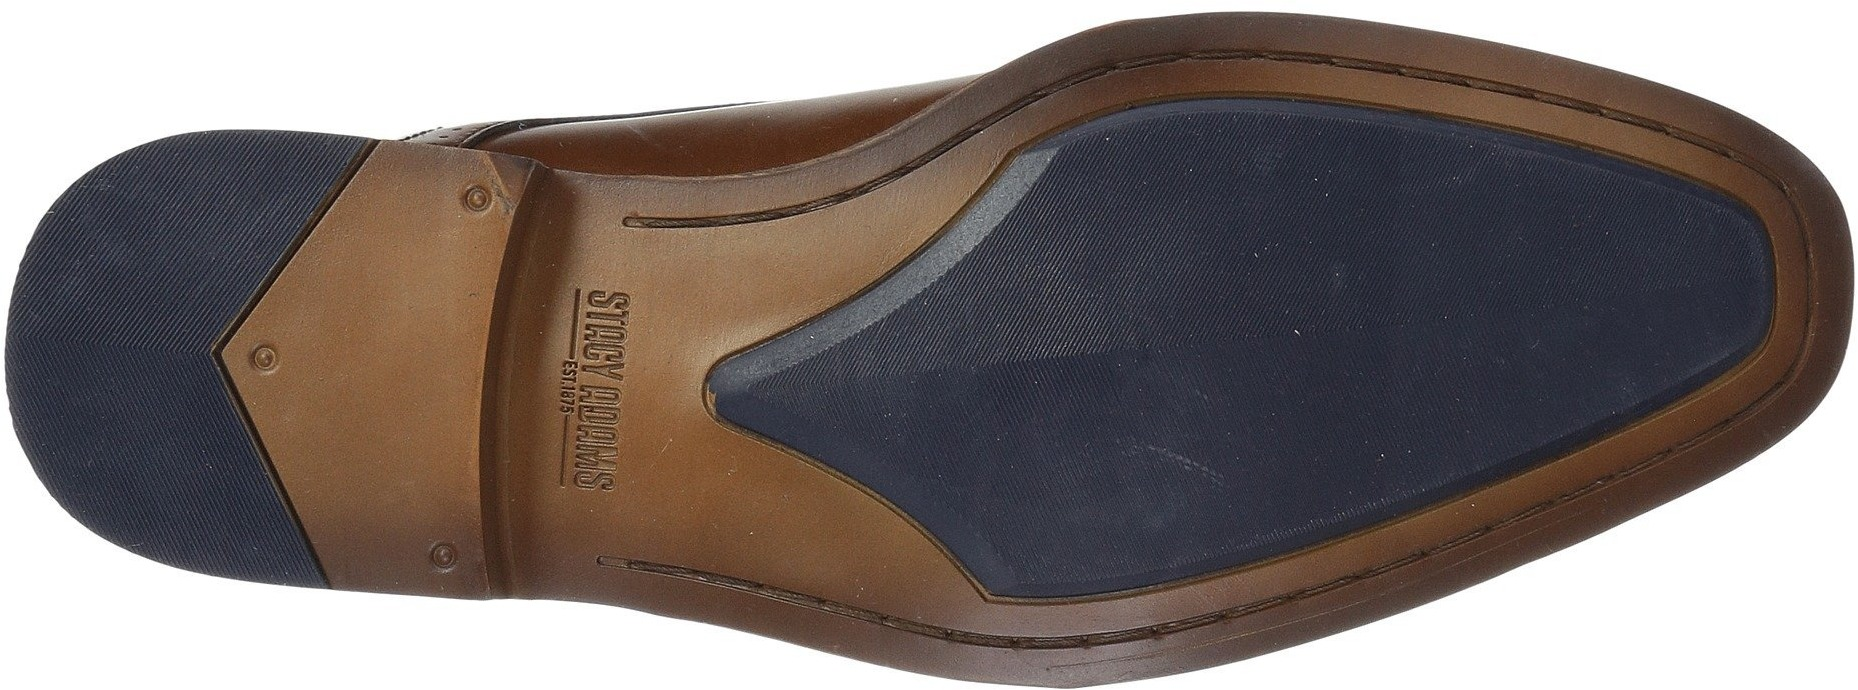chevron: (171, 129, 436, 590)
circle: (419, 518, 470, 573)
line: (1074, 162, 1468, 468), (998, 207, 1224, 392), (896, 322, 1056, 504)
text: (536, 253, 649, 498), (560, 378, 638, 442), (569, 281, 641, 349), (565, 442, 626, 497)
